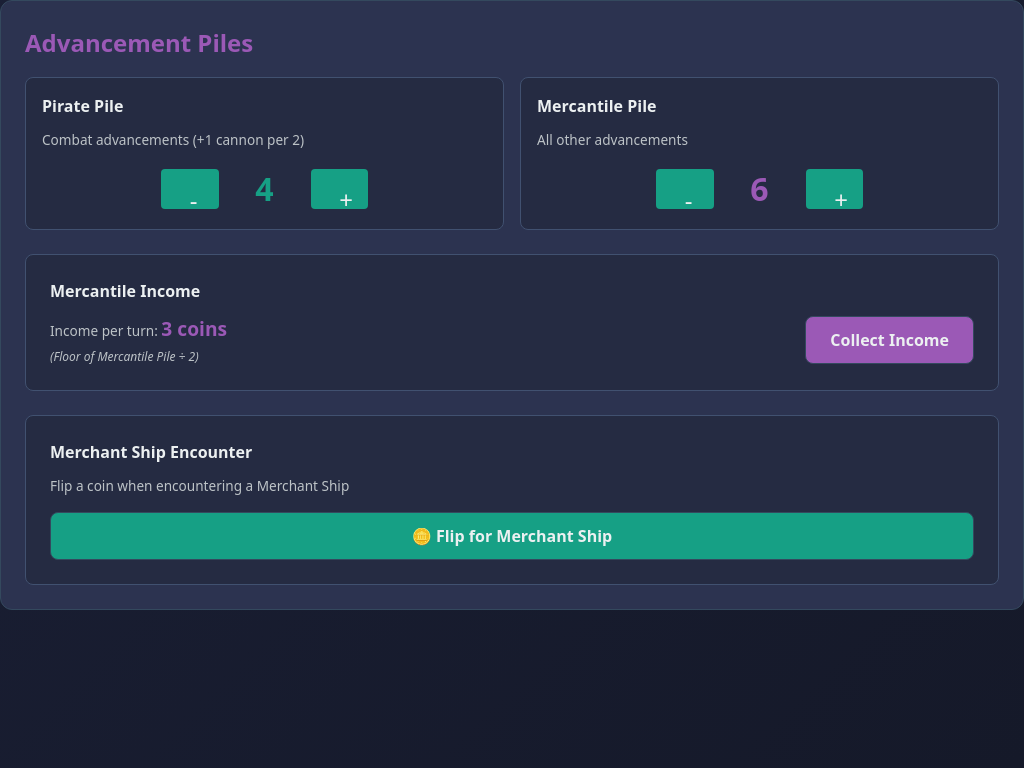
it: AdvancementPiles › Merchant Ship Flip › shows result modal when flip button clicked
Click the button "🪙 Flip for Merchant Ship".
click(512, 536)  # box [50,512,974,560]
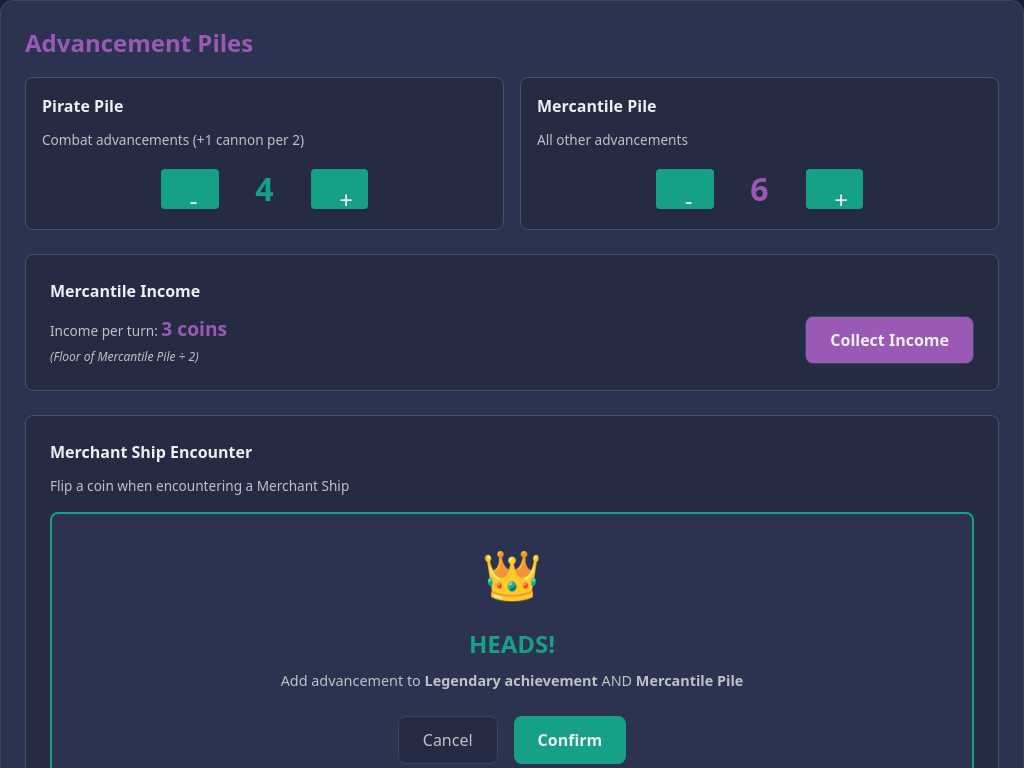
Now the text "Heads!" is shown, box [469,627,555,660]
